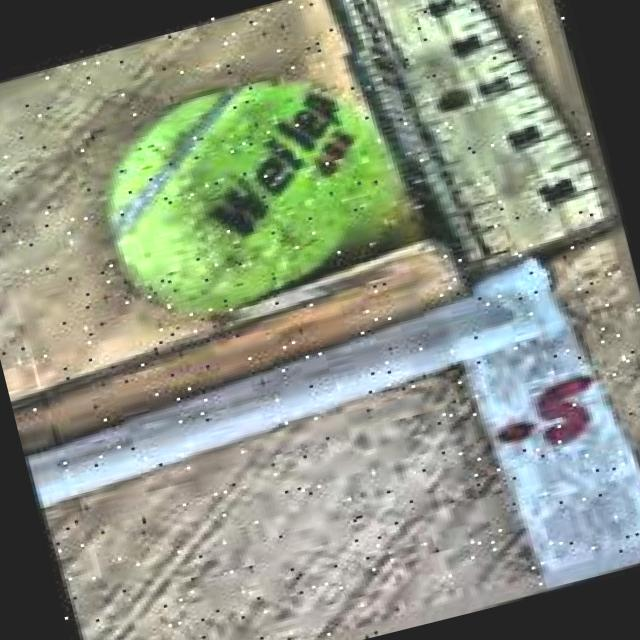tennis-ball: (73, 38, 457, 350)
